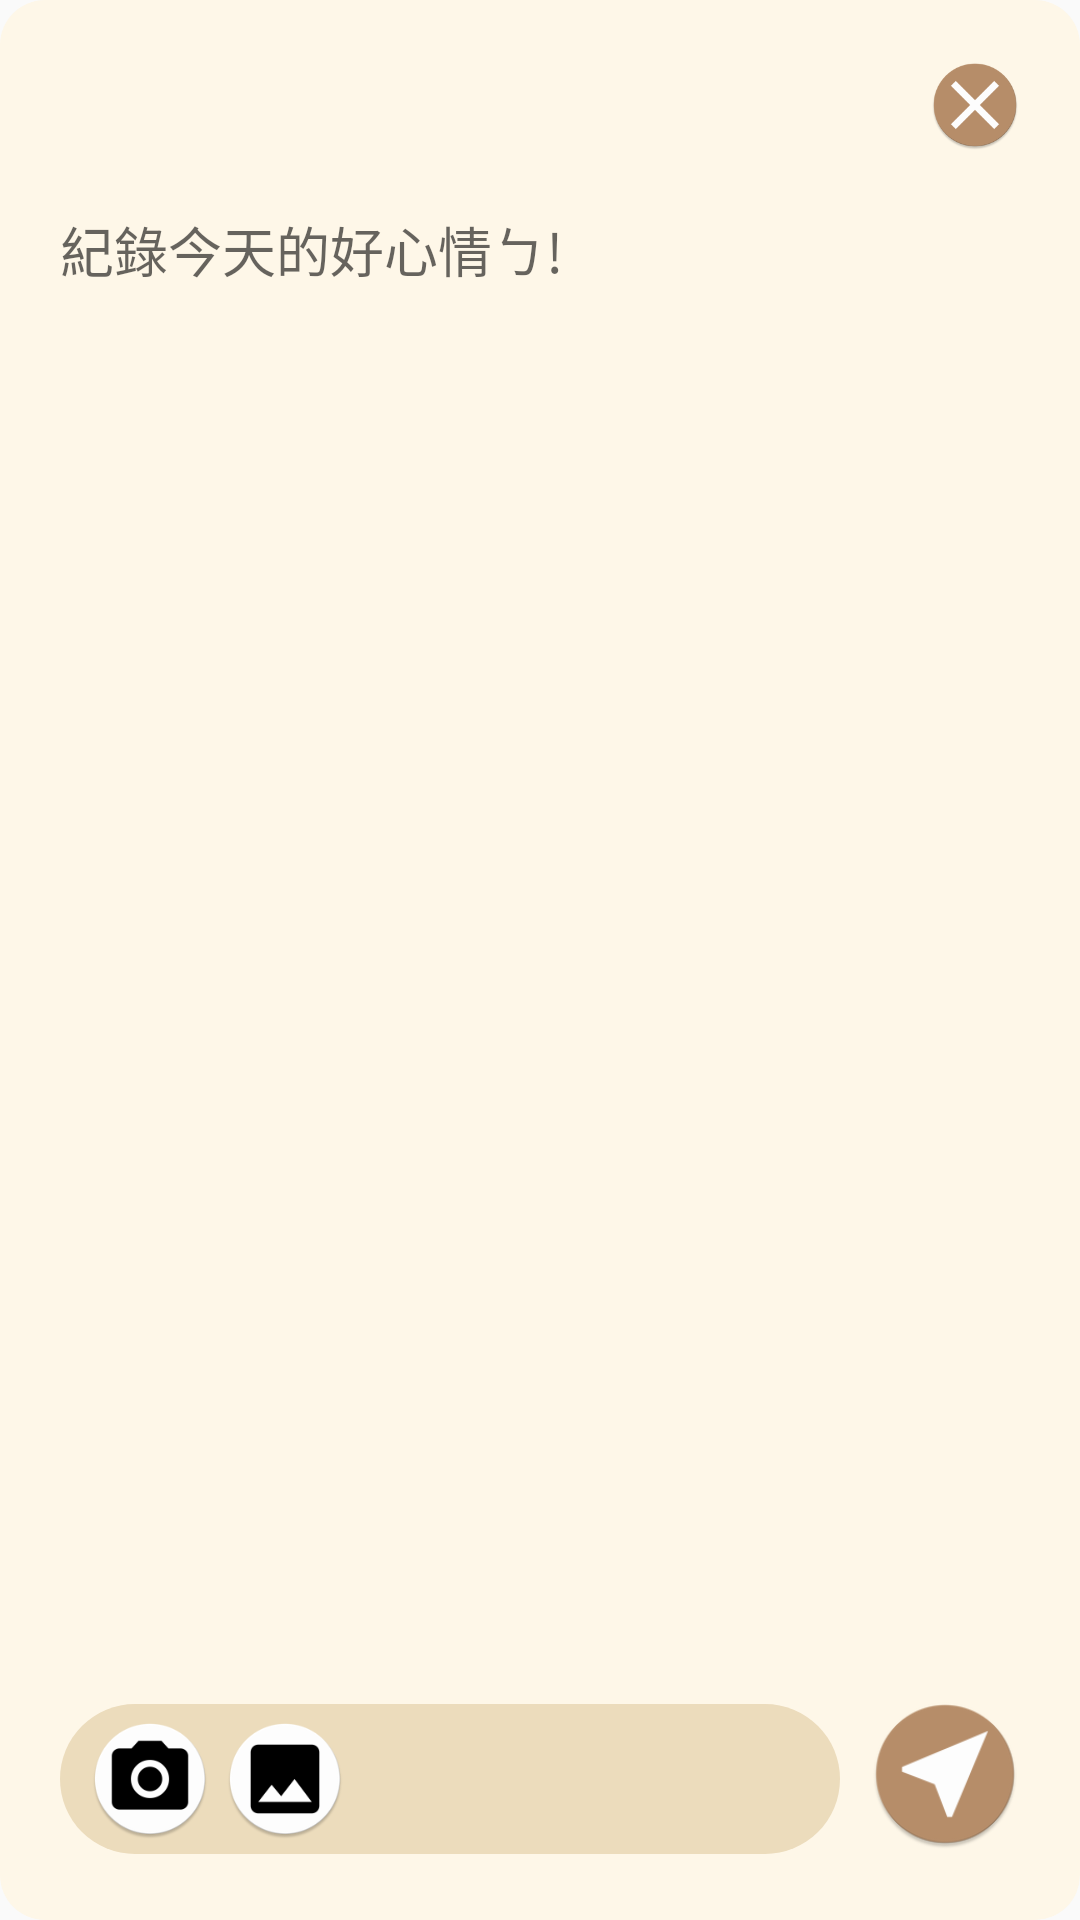

Icons on this 1080×1920 Android screen, each with the point to tap as (x,y):
camera: (150,1780)
close: (975,105)
gallery: (285,1780)
send: (945,1775)
